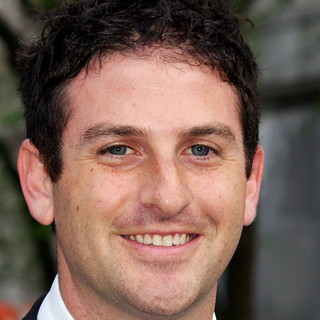eye: (175, 135, 226, 165), (94, 139, 147, 165)
